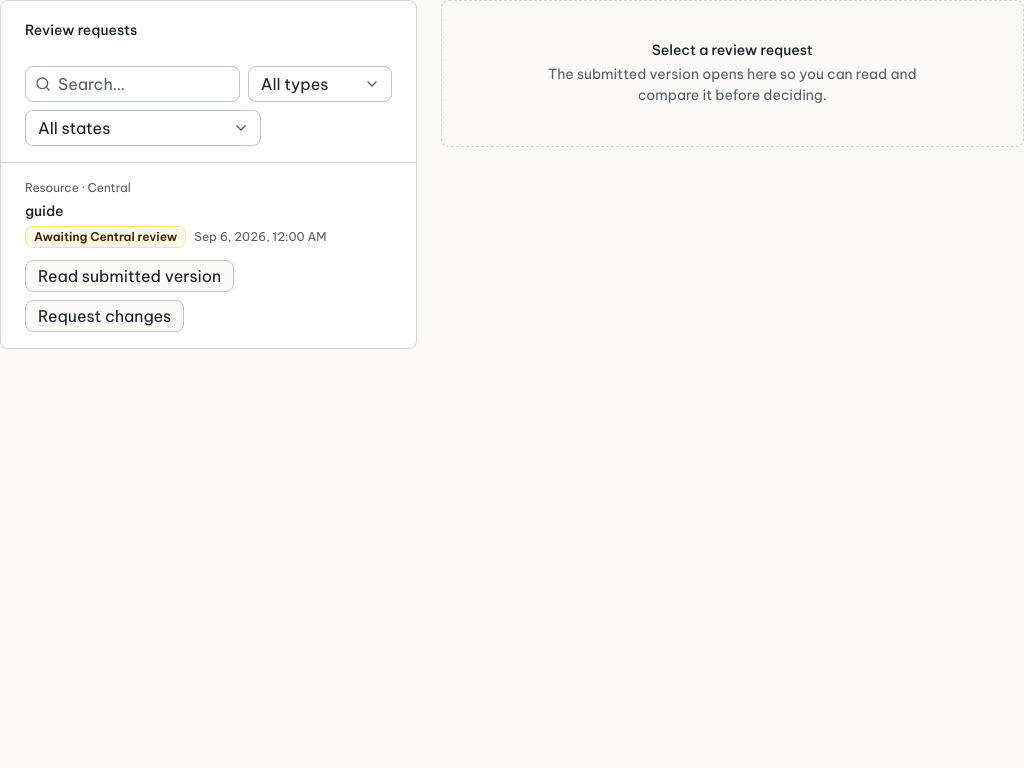
Test: Central review interface › keeps a changes request actionable when the server reports a stale review with HTTP 200
Click the button "Request changes".
click(105, 316)  # box x1=25 y1=300 x2=184 y2=332
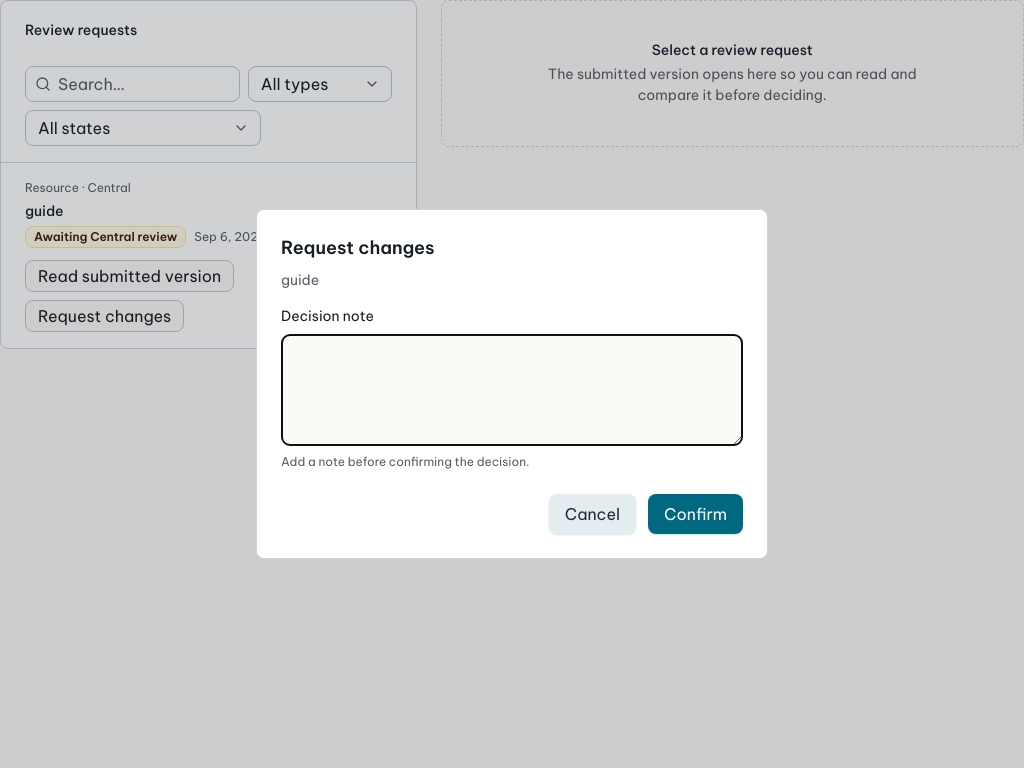
Type "Update the links" into the text box labelled "Decision note".
click(512, 390); type("Update the links")  # box x1=281 y1=334 x2=743 y2=446
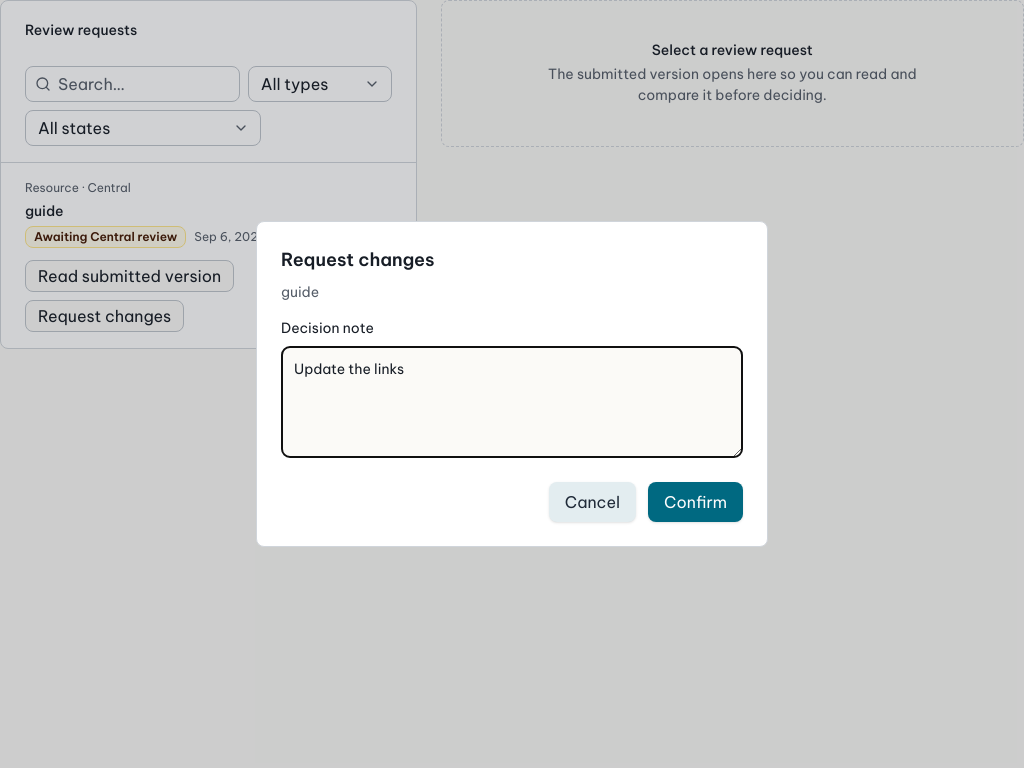
Click the button "Confirm".
click(696, 502)  # box x1=648 y1=482 x2=743 y2=522
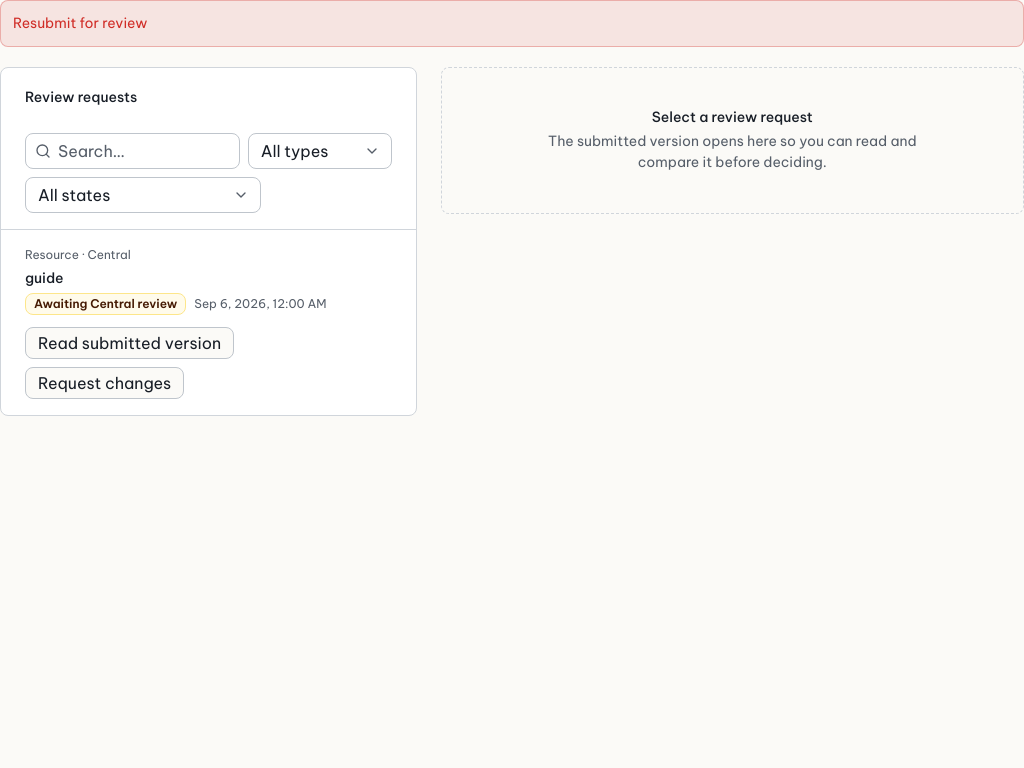
Expected: the button "Request changes" is enabled, x1=25 y1=367 x2=184 y2=399
Now the message reads "Resubmit for review", box x1=13 y1=14 x2=147 y2=32
